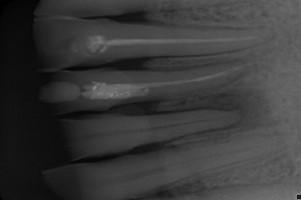Furcation Involvement: (201, 86, 277, 133)
